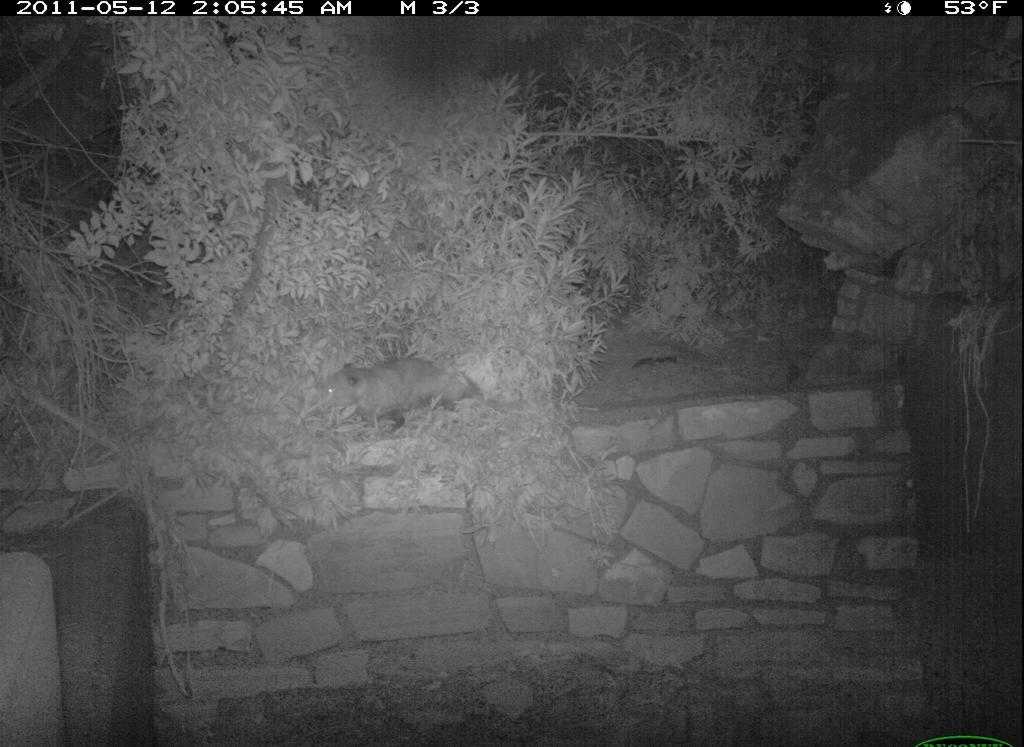opossum: (317, 333, 543, 460)
